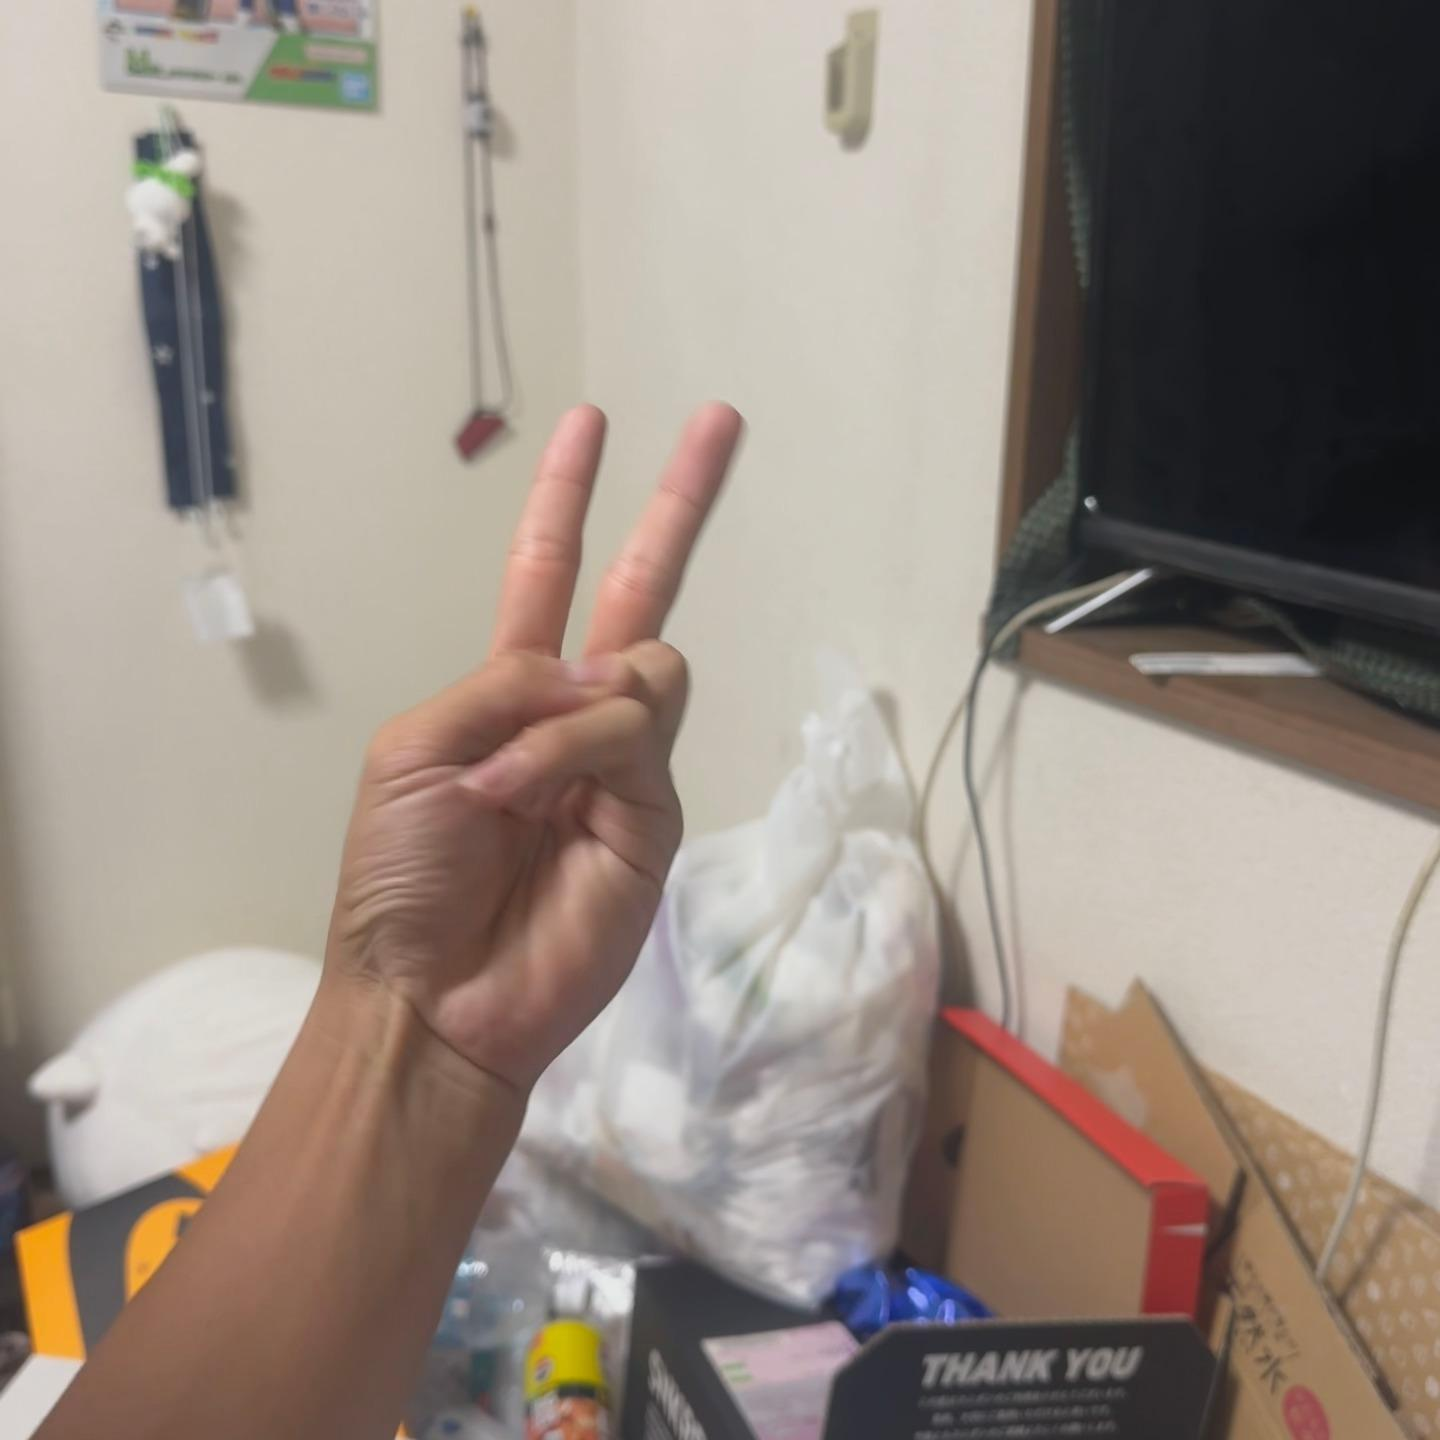without_gloves: (212, 310, 1047, 1179)
